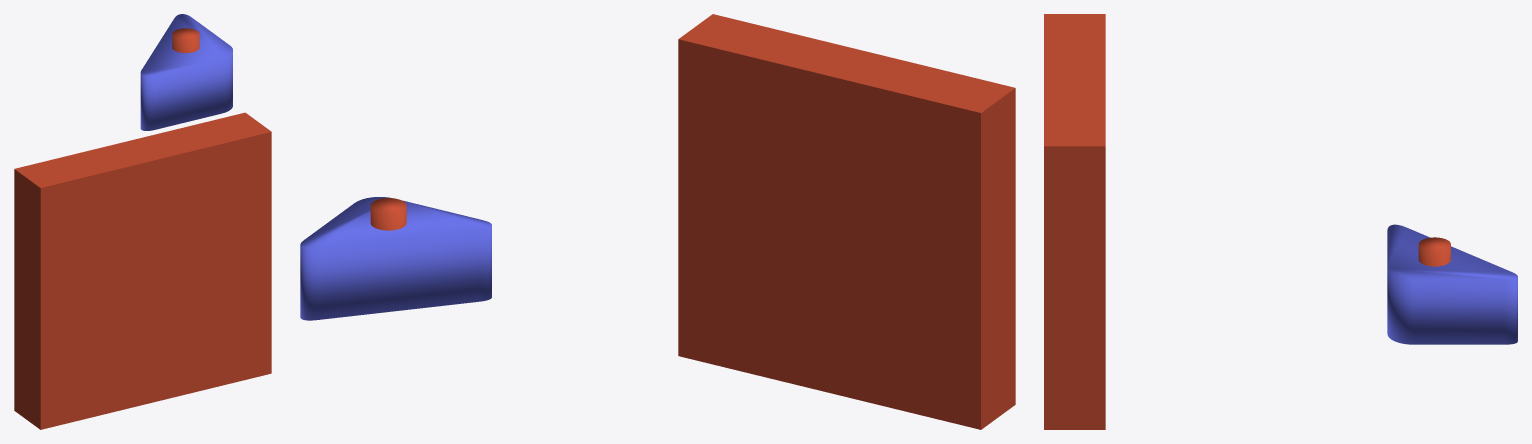
The model's file is PazzleGame.fbx.
The picture shows the model from 3 angles, left to right: view 1: azimuth 30°, elevation 25°; view 2: azimuth 150°, elevation 25°; view 3: azimuth 270°, elevation 25°; orthographic projection. The views are drawn at different scales.
Visible parts, largest first — view 1: Куб, Плоскость.001, Цилиндр; view 2: Куб, Плоскость.001, Цилиндр; view 3: Куб, Плоскость.001, Цилиндр.
Part boxes in pixels (box(x1,y1,x2,y2)): Куб: box(14, 112, 271, 429); Плоскость.001: box(140, 14, 232, 130); Цилиндр: box(172, 28, 199, 53); Куб: box(678, 14, 1015, 429); Плоскость.001: box(300, 197, 491, 320); Цилиндр: box(370, 198, 406, 230); Куб: box(1044, 14, 1105, 429); Плоскость.001: box(1387, 224, 1517, 344); Цилиндр: box(1418, 237, 1450, 266).
Bounding box in the file's own units: 300 × 200 × 303.
